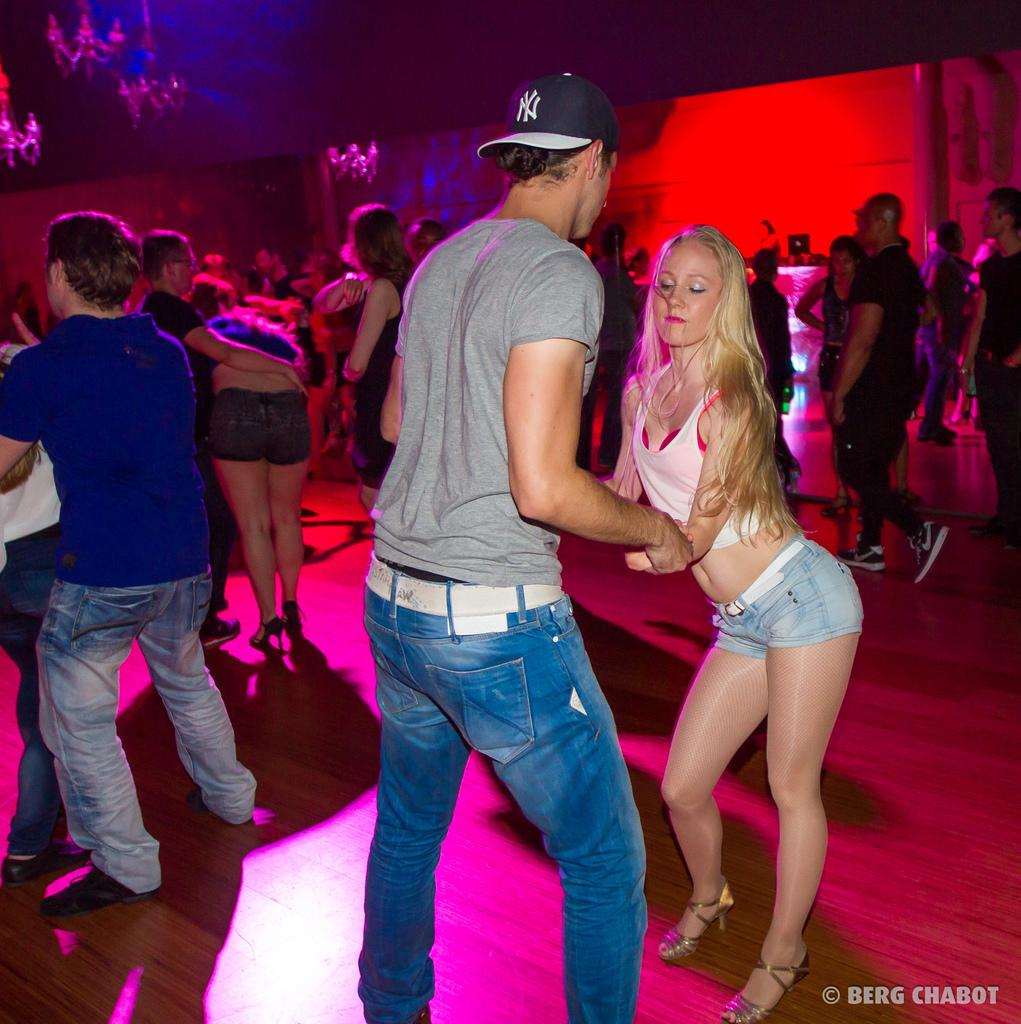Hat: (477, 74, 624, 166)
